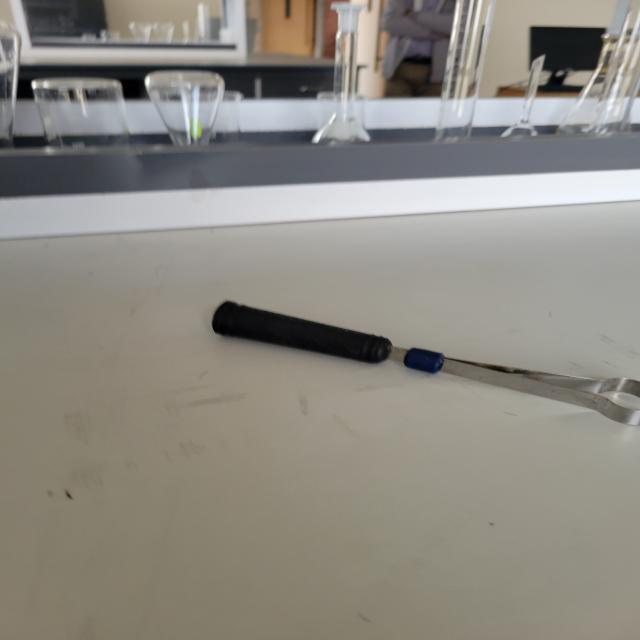TestTube_Holder: (189, 274, 640, 468)
